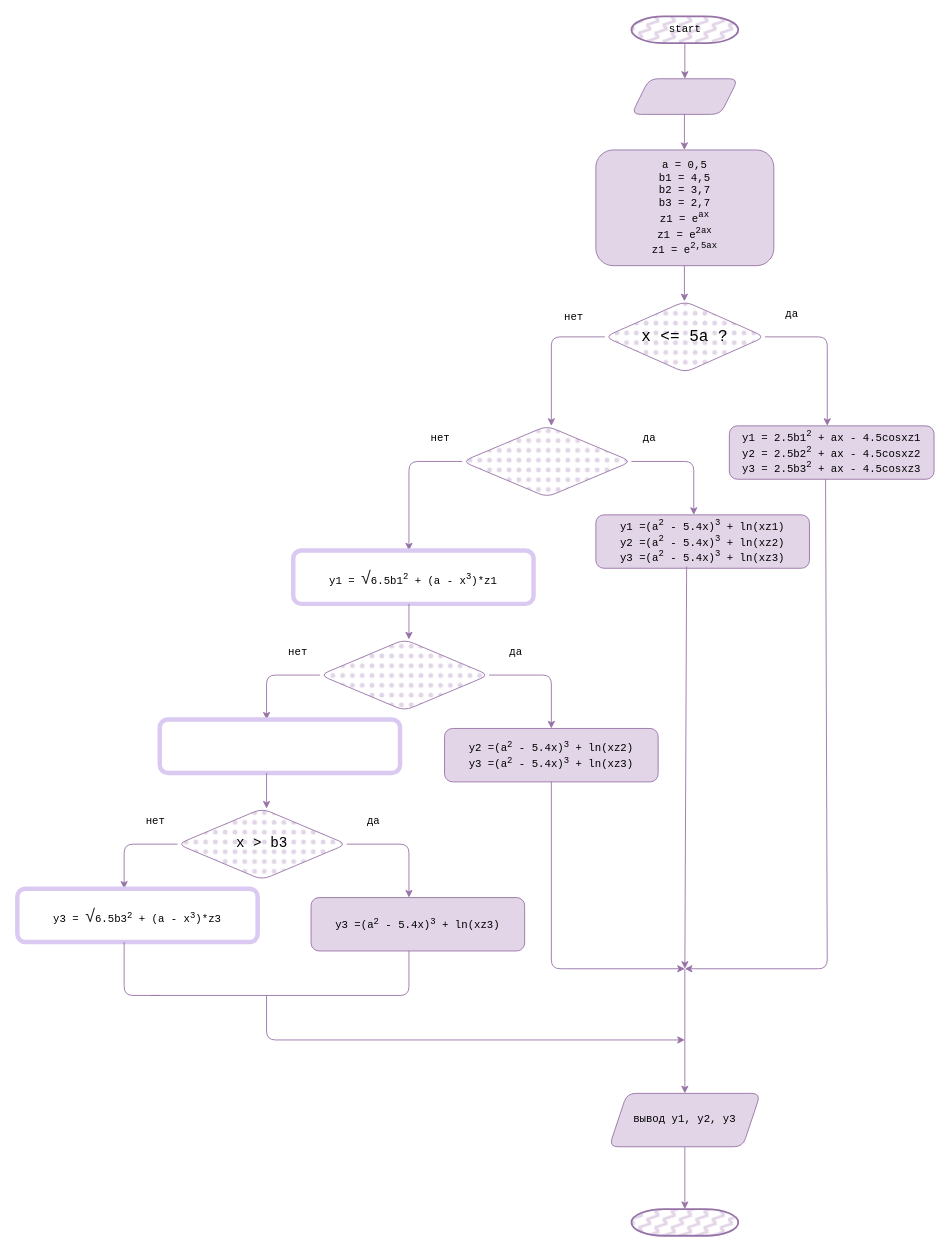
The diagram is 950 pixels wide and 1251 high, and some of its shapes have lost their labels. Here are the shapes that lost their labels. From the top down, the centre of each, then its label:
At [684,96]: "ввод x".
At [546,461]: "x > b1".
At [404,675]: "x > b2".
At [279,746]: "y2 = √ 6.5b2 2 + (a - x 3 )*z2".
At [684,1222]: "end".
